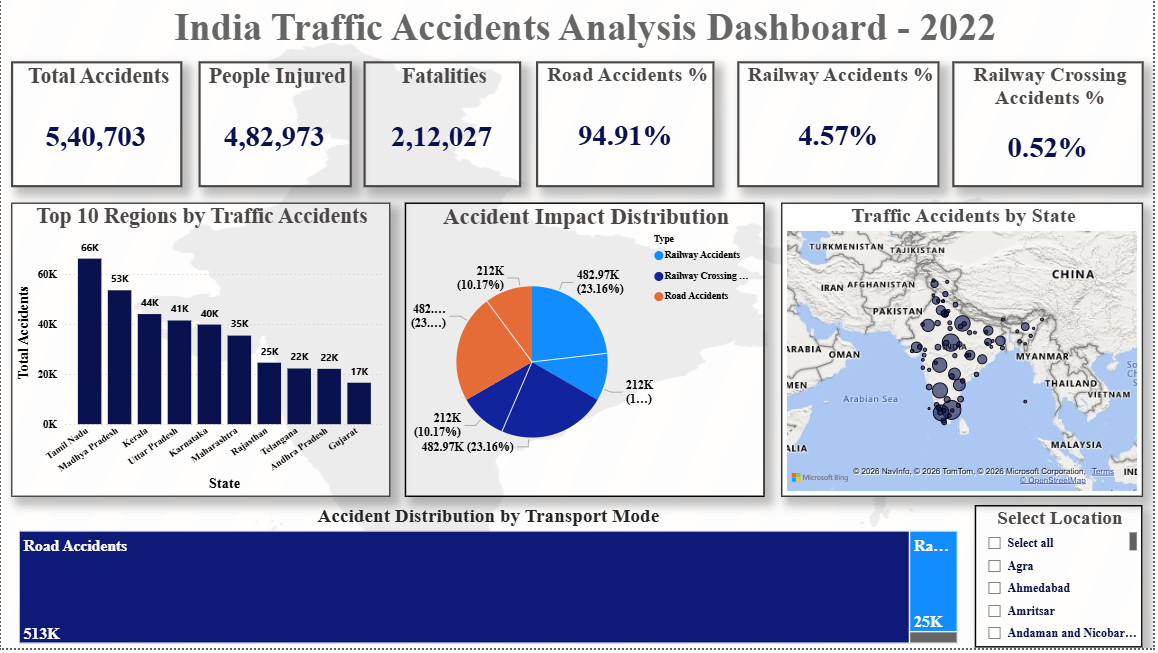

This screenshot's page, from the dashboard's own definition file:
{"tool":"powerbi","page":{"name":"Page 1","canvas":[1280,720],"ordinal":0},"visuals":[{"type":"textbox","box":[118.8,0,1060,67.5],"z":0},{"type":"card","title":"Total Accidents","fields":{"Values":["Sum(ADSI_Table_1A 2.Total Accidents)"]},"box":[11.2,67.5,190,140],"z":1000},{"type":"card","title":"People Injured","fields":{"Values":["Sum(ADSI_Table_1A 2.Total Injured)"]},"box":[220,67.5,170,140],"z":2000},{"type":"card","title":"Fatalities","fields":{"Values":["Sum(ADSI_Table_1A 2.Total Died)"]},"box":[402.5,67.5,175,140],"z":3000},{"type":"clusteredColumnChart","title":"Top 10 Regions by Traffic Accidents","fields":{"Category":["ADSI_Table_1A 2.Region"],"Y":["Sum(ADSI_Table_1A 2.Total Accidents)"]},"box":[11.2,225,421.2,327.5],"z":4000},{"type":"pieChart","title":"Accident Impact Distribution","fields":{"Y":["Sum(ADSI_Table_1A 2.Total Injured)","Sum(ADSI_Table_1A 2.Total Died)"],"Category":["Accident Type.Type"]},"box":[448.8,225,400,327.5],"z":5000},{"type":"slicer","title":"Select Location","fields":{"Values":["ADSI_Table_1A 2.Region"]},"box":[1082.5,561.2,186.2,158.8],"z":6000},{"type":"map","fields":{"Category":["ADSI_Table_1A 2.Region"],"Size":["Sum(ADSI_Table_1A 2.Total Accidents)"]},"box":[866.2,225,402.5,327.5],"z":7000},{"type":"card","title":"Road Accidents %","fields":{"Values":["ADSI_Table_1A 2.Road Accident Percentage"]},"box":[595,67.5,198.8,140],"z":8000},{"type":"card","title":"Railway Accidents %","fields":{"Values":["ADSI_Table_1A 2.Railway Accident Percentage"]},"box":[817.5,67.5,225,140],"z":9000},{"type":"card","title":"Railway Crossing Accidents %","fields":{"Values":["ADSI_Table_1A 2.Railway Crossing Percentage"]},"box":[1056.2,67.5,212.5,140],"z":10000},{"type":"treemap","title":"Accident Distribution by Transport Mode","fields":{"Group":["Accident Type.Type"],"Values":["ADSI_Table_1A 2.Accident Type Cases"]},"box":[15,561.2,1052.5,158.8],"z":11000}]}

Visuals, with their boxes in screenshot pixels (x1, y1, x2, y2), scaled from the page's 1280x720 canvas onto the 1158x653 screenshot:
textbox: [107,0,1066,61]
"Total Accidents" card: [10,61,182,188]
"People Injured" card: [199,61,353,188]
"Fatalities" card: [364,61,522,188]
"Top 10 Regions by Traffic Accidents" clusteredColumnChart: [10,204,391,501]
"Accident Impact Distribution" pieChart: [406,204,768,501]
"Select Location" slicer: [979,509,1148,652]
map - ADSI_Table_1A 2.Region x Sum(ADSI_Table_1A 2.Total Accidents): [784,204,1148,501]
"Road Accidents %" card: [538,61,718,188]
"Railway Accidents %" card: [740,61,943,188]
"Railway Crossing Accidents %" card: [956,61,1148,188]
"Accident Distribution by Transport Mode" treemap: [14,509,966,652]
